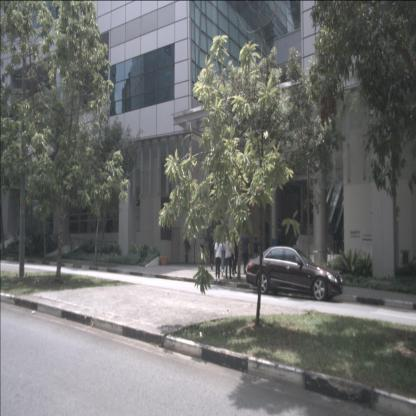human-pedestrian-adult: (224, 234, 236, 281), (241, 229, 251, 275), (214, 232, 223, 282), (231, 232, 239, 276), (208, 228, 216, 270), (252, 234, 260, 270), (221, 236, 228, 277), (278, 231, 286, 262), (264, 236, 270, 270)
vehicle-car: (246, 246, 344, 302)
